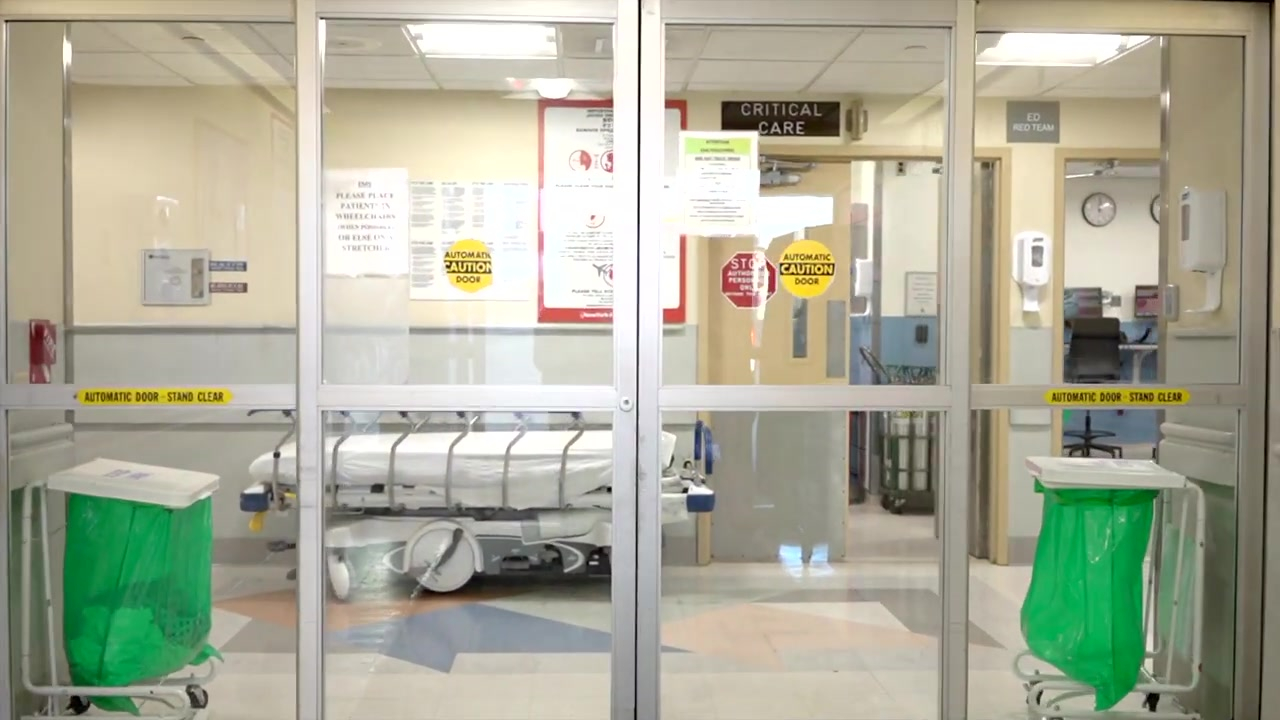bedrail: (244, 407, 589, 524)
chair: (1062, 317, 1120, 460)
dispenser: (1177, 186, 1225, 312), (1013, 230, 1053, 317), (853, 259, 874, 305)
hospital_bed: (241, 406, 716, 602)
waste_bin: (18, 457, 219, 720), (1010, 459, 1206, 719)
